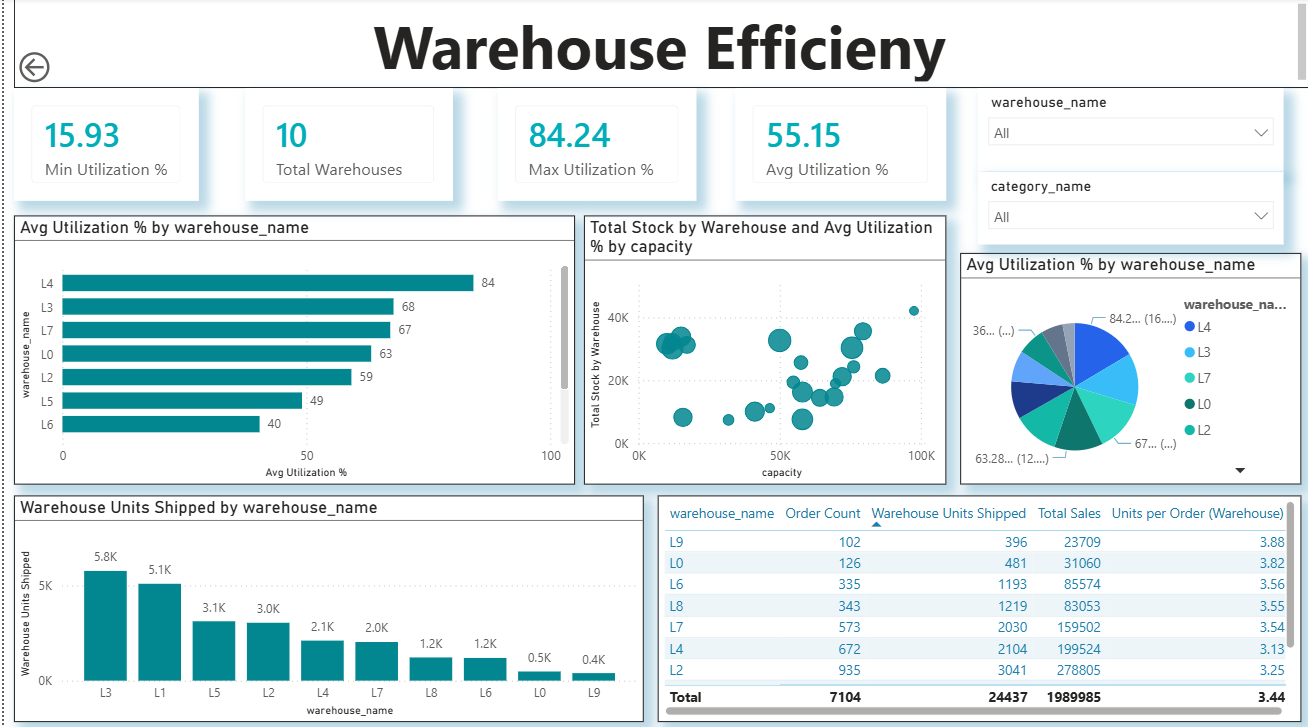

Layout of this report page (visuals, bound fields, positions):
{"tool":"powerbi","page":{"name":"WAREHOUSE ANALYTICS","canvas":[1280,720],"ordinal":5},"visuals":[{"type":"textbox","box":[9.8,0,1270.5,88],"z":0},{"type":"barChart","fields":{"Y":["fact_table.Avg Utilization %"],"Category":["fact_table.warehouse_name"]},"box":[9.8,212.8,549.1,262.9],"z":1000},{"type":"scatterChart","fields":{"X":["fact_table.capacity"],"Y":["fact_table.Total Stock by Warehouse"],"Size":["fact_table.Avg Utilization %"]},"box":[567.4,212.8,354.6,262.9],"z":2000},{"type":"pieChart","fields":{"Y":["fact_table.Avg Utilization %"],"Category":["fact_table.warehouse_name"]},"box":[935.5,249.5,333.8,226.2],"z":3000},{"type":"columnChart","fields":{"Y":["fact_table.Warehouse Units Shipped"],"Category":["fact_table.warehouse_name"]},"box":[9.8,486.7,616.3,221.3],"z":4000},{"type":"tableEx","fields":{"Values":["fact_table.warehouse_name","fact_table.Order Count","fact_table.Warehouse Units Shipped","fact_table.Total Sales","fact_table.Units per Order (Warehouse)"]},"box":[639.5,486.7,629.8,221.3],"z":5000},{"type":"slicer","fields":{"Values":["fact_table.warehouse_name"]},"box":[952.6,88,299.6,81.9],"z":6000},{"type":"slicer","fields":{"Values":["fact_table.category_name"]},"box":[952.6,170,299.6,70.9],"z":7000},{"type":"cardVisual","fields":{"Data":["fact_table.Total Warehouses"]},"box":[236,88,203,110.1],"z":8000},{"type":"cardVisual","fields":{"Data":["fact_table.Max Utilization %"]},"box":[483,88,194.4,110.1],"z":9000},{"type":"cardVisual","fields":{"Data":["fact_table.Min Utilization %"]},"box":[9.8,88,181,110.1],"z":10000},{"type":"cardVisual","fields":{"Data":["fact_table.Avg Utilization %"]},"box":[715.4,88,206.7,110.1],"z":11000},{"type":"actionButton","box":[9.8,47.7,100,40],"z":12000}]}

Visuals, with their boxes in screenshot pixels (x1, y1, x2, y2), scaled from the page's 1280x720 canvas onto the 1308x727 screenshot:
textbox: (10, 0, 1307, 89)
barChart - fact_table.Avg Utilization % x fact_table.warehouse_name: (10, 215, 571, 480)
scatterChart - fact_table.capacity x fact_table.Total Stock by Warehouse: (580, 215, 942, 480)
pieChart - fact_table.Avg Utilization % x fact_table.warehouse_name: (956, 252, 1297, 480)
columnChart - fact_table.Warehouse Units Shipped x fact_table.warehouse_name: (10, 491, 640, 715)
tableEx - fact_table.warehouse_name x fact_table.Order Count: (653, 491, 1297, 715)
slicer - fact_table.warehouse_name: (973, 89, 1280, 172)
slicer - fact_table.category_name: (973, 172, 1280, 243)
cardVisual - fact_table.Total Warehouses: (241, 89, 449, 200)
cardVisual - fact_table.Max Utilization %: (494, 89, 692, 200)
cardVisual - fact_table.Min Utilization %: (10, 89, 195, 200)
cardVisual - fact_table.Avg Utilization %: (731, 89, 942, 200)
actionButton: (10, 48, 112, 89)
